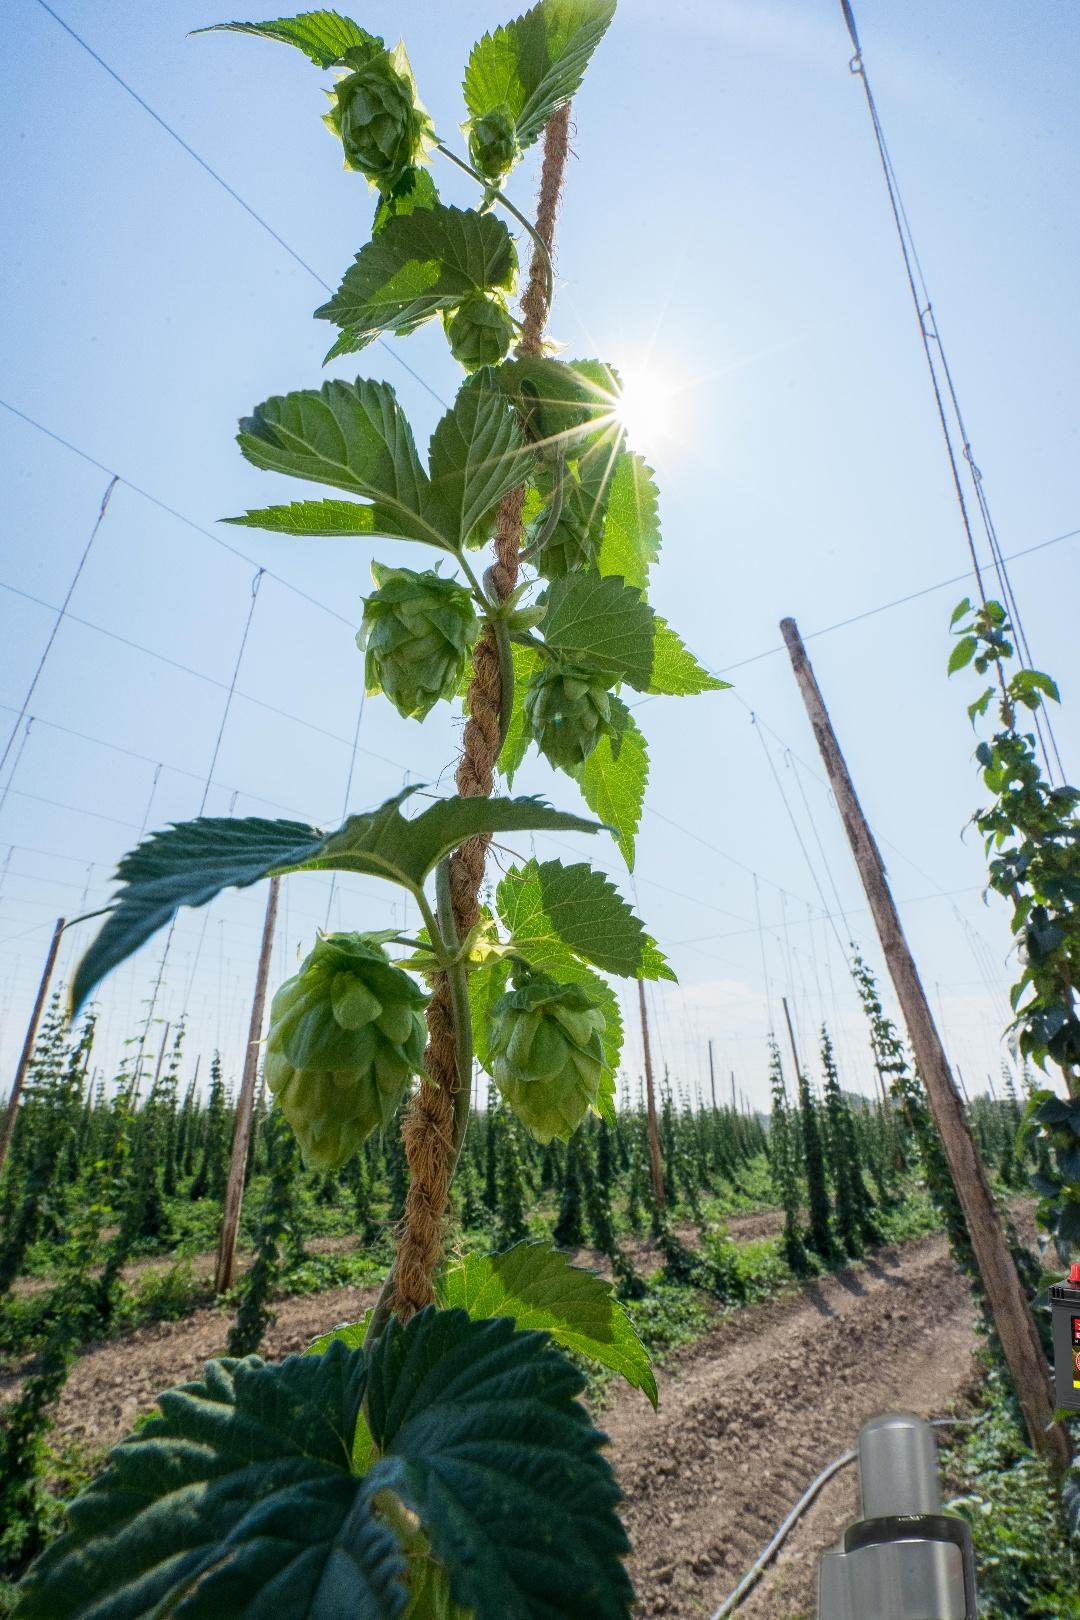battery: (1045, 1257, 1080, 1437)
penholder: (730, 1348, 1080, 1620)
